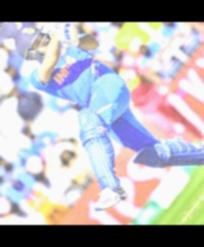batsman: (0, 21, 204, 225)
